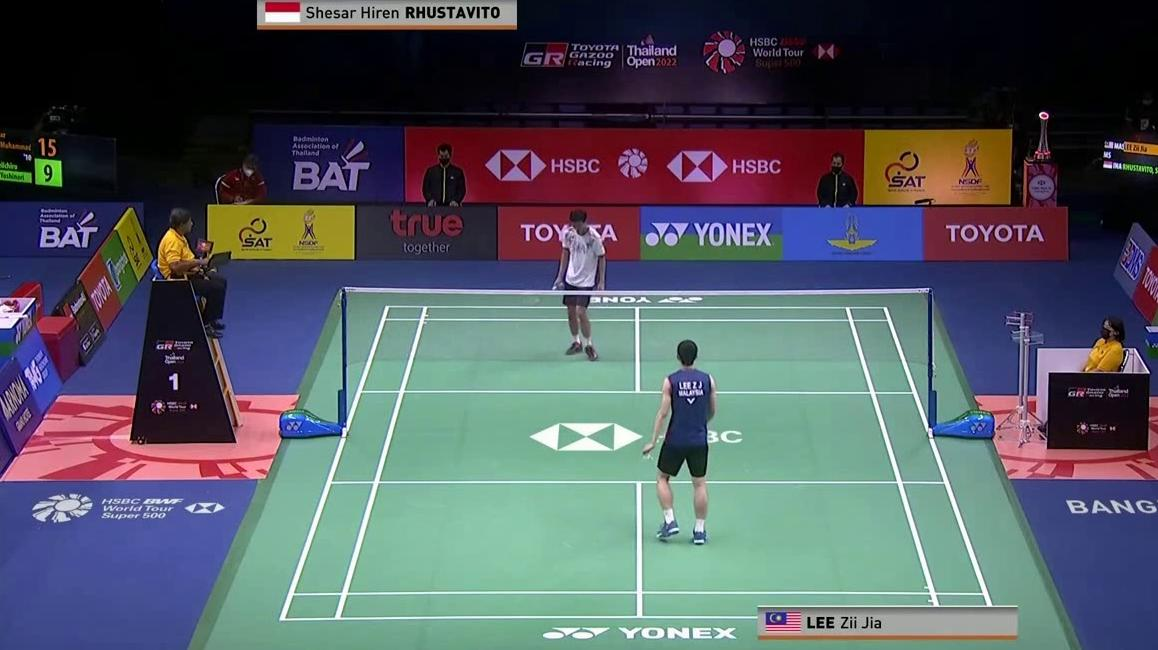racket: (521, 280, 564, 308)
shuttle: (638, 448, 653, 460)
